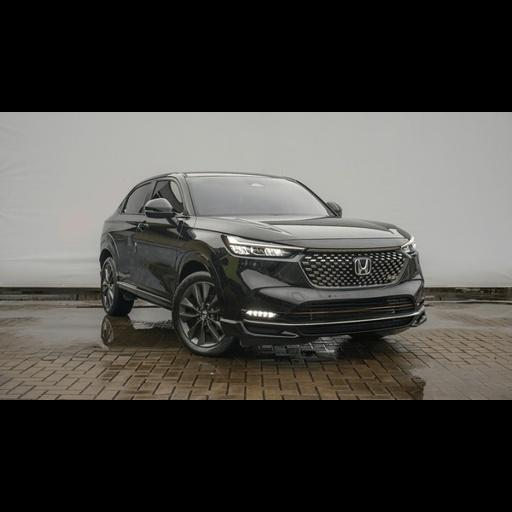suv: (99, 172, 425, 355)
